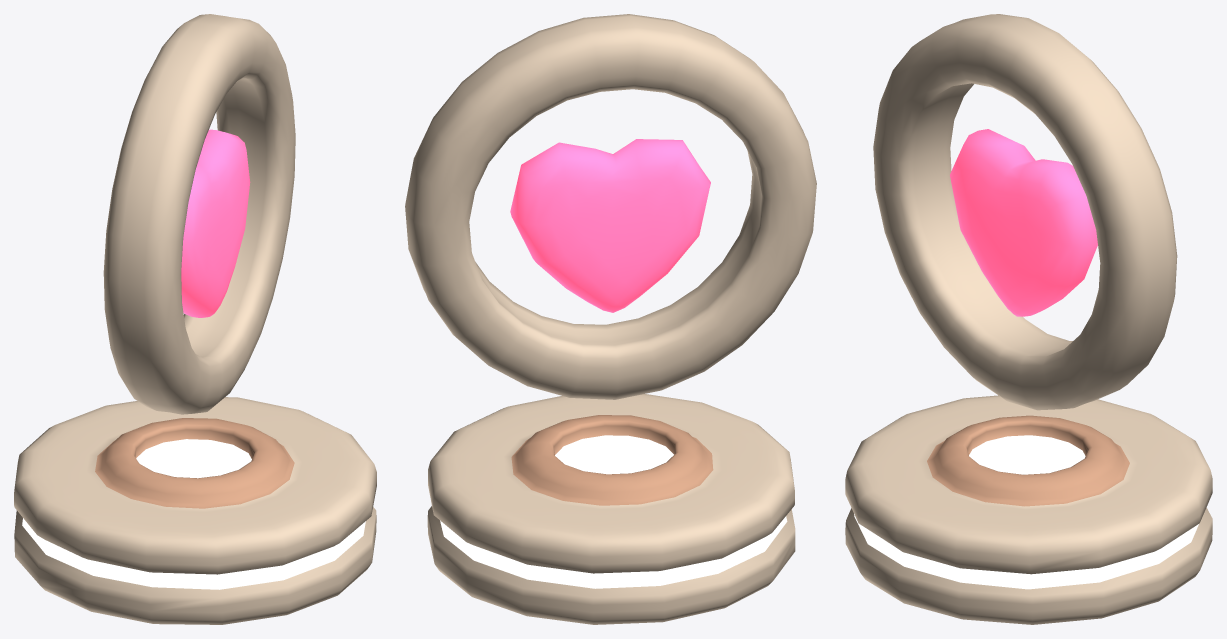
The model's file is lampara.glb.
3 views of the same model, side by side, from view 1: azimuth 30°, elevation 25°; view 2: azimuth 150°, elevation 25°; view 3: azimuth 270°, elevation 25° (orthographic).
Parts seen in each view (by area): view 1: lamparacorazon; view 2: lamparacorazon; view 3: lamparacorazon.
Part boxes in pixels (left/top/right/bottom): lamparacorazon: left=14, top=14, right=376, bottom=624; lamparacorazon: left=405, top=14, right=816, bottom=624; lamparacorazon: left=845, top=14, right=1212, bottom=624.
Size of what is drawn, in the model's own units: 1.31 by 2.06 by 1.31.
3 materials, 1 textured.
